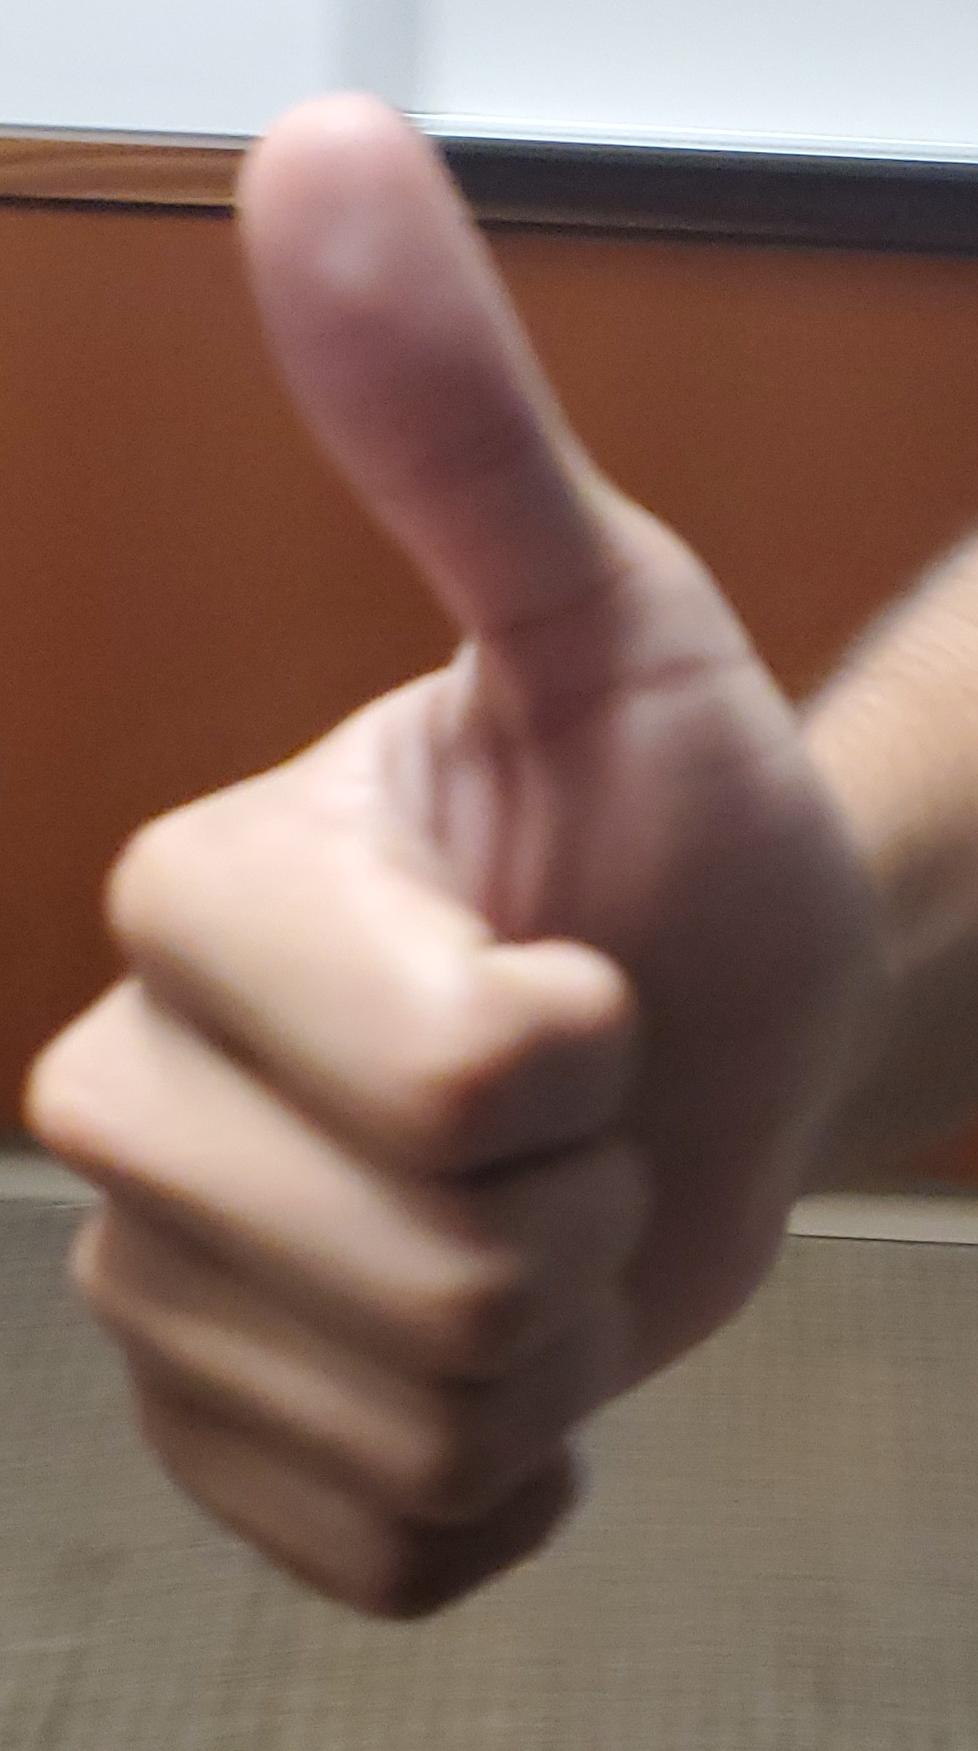up: (0, 1, 978, 1751)
